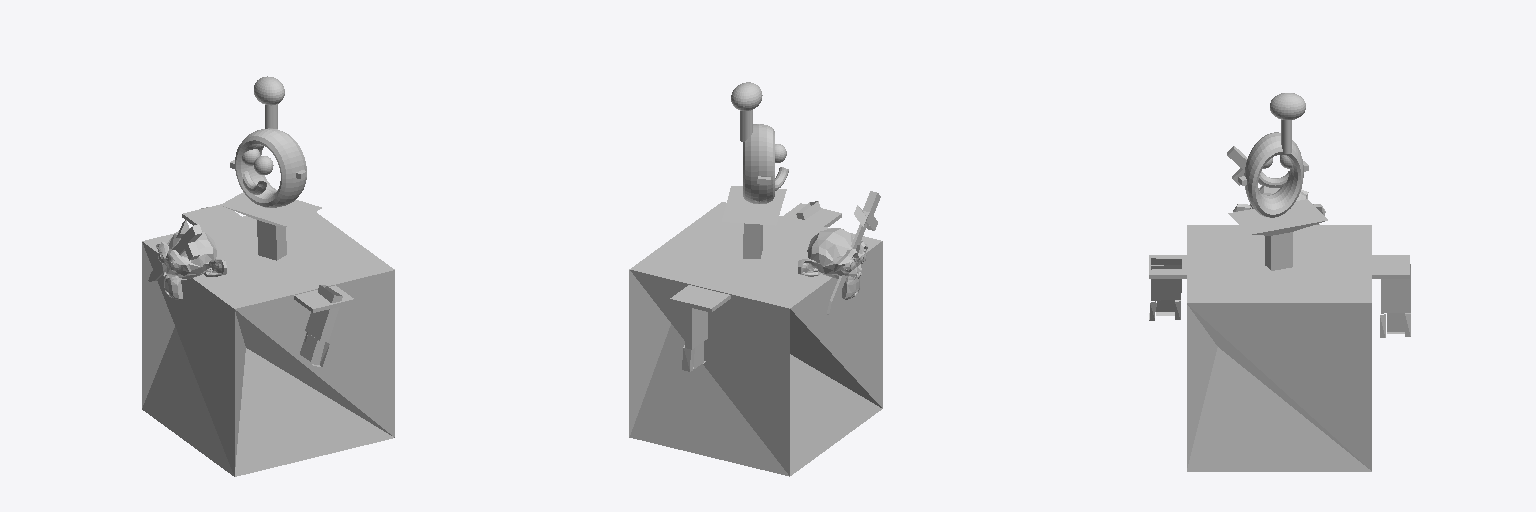
Rendered from Robot_000010.obj.
3 views of the same model, side by side, from view 1: azimuth 30°, elevation 25°; view 2: azimuth 150°, elevation 25°; view 3: azimuth 270°, elevation 25° (orthographic).
Visible parts, largest first — view 1: Cube.001_Cube, Cube_Cube.001, Suzanne, Left_Hand.001_Cube.005, Cube.002_Cube.004, Cube.003_Cube.006, Sphere; view 2: Cube.001_Cube, Cube_Cube.001, Suzanne, Cube.002_Cube.004, Left_Hand_Cube.002, Cube.003_Cube.006, Sphere; view 3: Cube.001_Cube, Cube_Cube.001, Left_Hand_Cube.002, Cube.002_Cube.004, Left_Hand.001_Cube.005, Sphere.
Part boxes in pixels (x1,y1,x2,y2): Cube.001_Cube: (142,212,394,476); Cube_Cube.001: (221,128,321,260); Suzanne: (156,231,226,299); Left_Hand.001_Cube.005: (300,285,342,366); Cube.002_Cube.004: (182,204,354,312); Cube.003_Cube.006: (148,220,201,281); Sphere: (254,76,284,105); Cube.001_Cube: (629,202,882,476); Cube_Cube.001: (722,124,786,258); Suzanne: (798,228,868,299); Cube.002_Cube.004: (670,203,841,312); Left_Hand_Cube.002: (682,303,707,371); Cube.003_Cube.006: (827,191,880,314); Sphere: (731,82,762,110); Cube.001_Cube: (1187,225,1371,471); Cube_Cube.001: (1228,132,1327,270); Left_Hand_Cube.002: (1380,264,1410,337); Cube.002_Cube.004: (1149,255,1409,278); Left_Hand.001_Cube.005: (1149,258,1181,320); Sphere: (1270,93,1305,119).
Size of the model in its own units: 2.3 by 4.06 by 2.83.